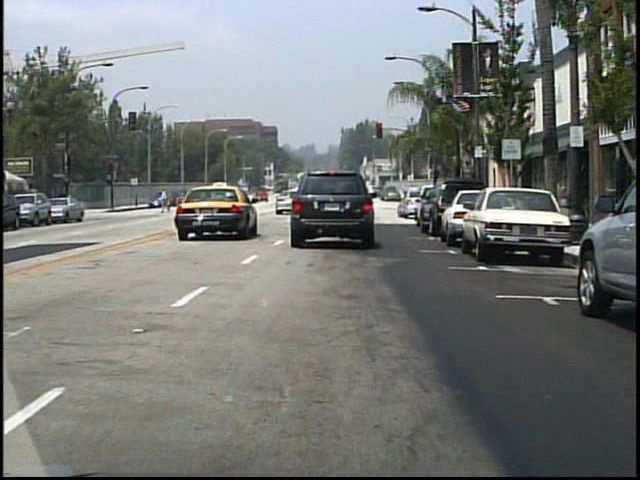person: (360, 186, 378, 216), (159, 188, 173, 215)
